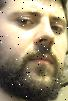without_mask: (2, 2, 68, 101)
